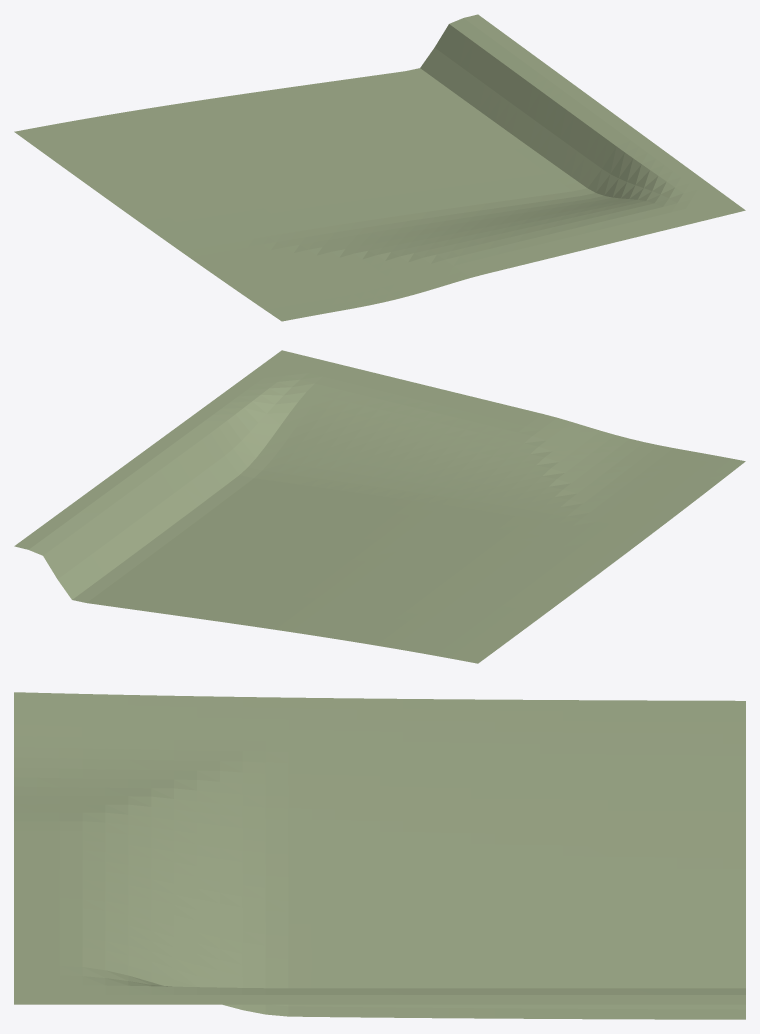
The model's file is valley-7-11.glb.
3 renders of one model, top to bottom at view 1: azimuth 30°, elevation 25°; view 2: azimuth 150°, elevation 25°; view 3: azimuth 270°, elevation 25°, orthographic. The views are drawn at different scales.
Parts seen in each view (by area): view 1: valley-7-11; view 2: valley-7-11; view 3: valley-7-11.
Part boxes in pixels (box(x1,y1,x2,y2)): valley-7-11: box(14, 14, 745, 321); valley-7-11: box(14, 350, 745, 663); valley-7-11: box(14, 692, 745, 1019).
Bounding box in the file's own units: 256 × 21.98 × 256.
